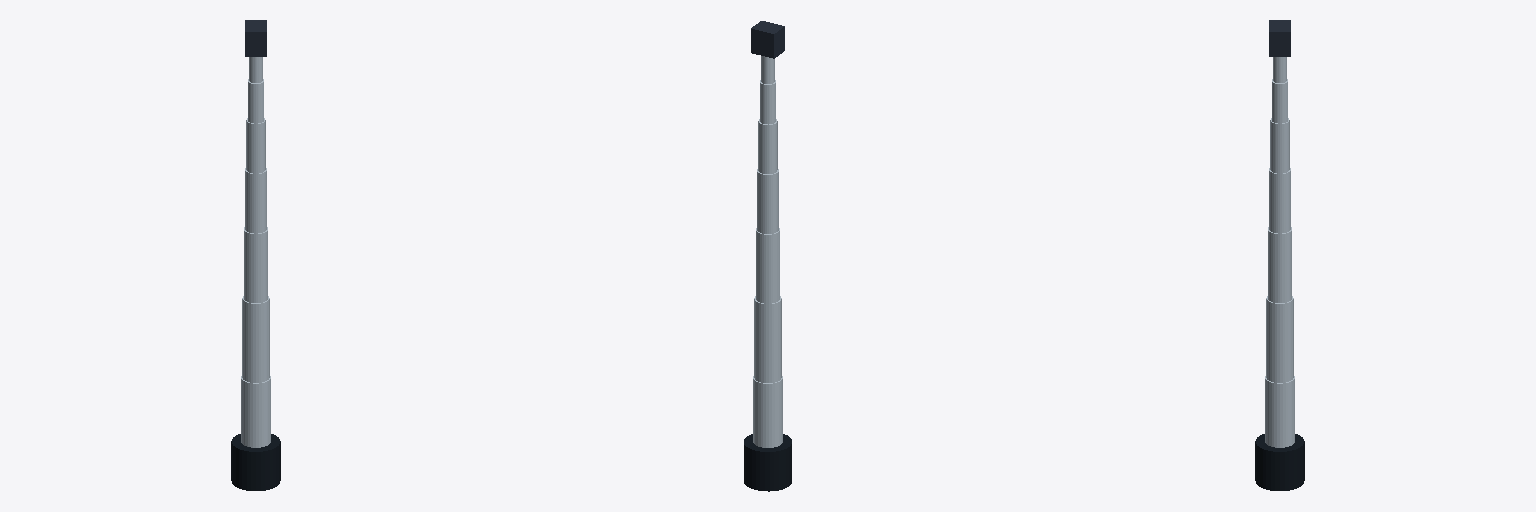
URDF robot description (panda_web):
<?xml version="1.0"?>
<robot name="panda_web">
  <link name="panda_link0"><visual><geometry><cylinder radius="0.09" length="0.16"/></geometry><material name="dark"><color rgba="0.12 0.15 0.18 1"/></material></visual></link>
  <link name="panda_link1"><visual><origin xyz="0 0 0.17"/><geometry><cylinder radius="0.055" length="0.34"/></geometry><material name="white"><color rgba="0.75 0.8 0.84 1"/></material></visual></link>
  <link name="panda_link2"><visual><origin xyz="0 0 0.16"/><geometry><cylinder radius="0.05" length="0.32"/></geometry><material name="white"><color rgba="0.75 0.8 0.84 1"/></material></visual></link>
  <link name="panda_link3"><visual><origin xyz="0 0 0.14"/><geometry><cylinder radius="0.045" length="0.28"/></geometry><material name="white"><color rgba="0.75 0.8 0.84 1"/></material></visual></link>
  <link name="panda_link4"><visual><origin xyz="0 0 0.12"/><geometry><cylinder radius="0.04" length="0.24"/></geometry><material name="white"><color rgba="0.75 0.8 0.84 1"/></material></visual></link>
  <link name="panda_link5"><visual><origin xyz="0 0 0.1"/><geometry><cylinder radius="0.035" length="0.2"/></geometry><material name="white"><color rgba="0.75 0.8 0.84 1"/></material></visual></link>
  <link name="panda_link6"><visual><origin xyz="0 0 0.08"/><geometry><cylinder radius="0.03" length="0.16"/></geometry><material name="white"><color rgba="0.75 0.8 0.84 1"/></material></visual></link>
  <link name="panda_link7"><visual><origin xyz="0 0 0.06"/><geometry><cylinder radius="0.025" length="0.12"/></geometry><material name="white"><color rgba="0.75 0.8 0.84 1"/></material></visual></link>
  <link name="panda_hand"><visual><origin xyz="0 0 0.05"/><geometry><box size="0.1 0.08 0.1"/></geometry><material name="hand"><color rgba="0.2 0.23 0.28 1"/></material></visual></link>
  <joint name="panda_joint1" type="revolute"><parent link="panda_link0"/><child link="panda_link1"/><axis xyz="0 0 1"/><limit lower="-2.9" upper="2.9" effort="1" velocity="1"/></joint>
  <joint name="panda_joint2" type="revolute"><parent link="panda_link1"/><child link="panda_link2"/><origin xyz="0 0 0.34"/><axis xyz="0 1 0"/><limit lower="-2.9" upper="2.9" effort="1" velocity="1"/></joint>
  <joint name="panda_joint3" type="revolute"><parent link="panda_link2"/><child link="panda_link3"/><origin xyz="0 0 0.32"/><axis xyz="0 1 0"/><limit lower="-2.9" upper="2.9" effort="1" velocity="1"/></joint>
  <joint name="panda_joint4" type="revolute"><parent link="panda_link3"/><child link="panda_link4"/><origin xyz="0 0 0.28"/><axis xyz="1 0 0"/><limit lower="-2.9" upper="2.9" effort="1" velocity="1"/></joint>
  <joint name="panda_joint5" type="revolute"><parent link="panda_link4"/><child link="panda_link5"/><origin xyz="0 0 0.24"/><axis xyz="0 1 0"/><limit lower="-2.9" upper="2.9" effort="1" velocity="1"/></joint>
  <joint name="panda_joint6" type="revolute"><parent link="panda_link5"/><child link="panda_link6"/><origin xyz="0 0 0.2"/><axis xyz="1 0 0"/><limit lower="-2.9" upper="2.9" effort="1" velocity="1"/></joint>
  <joint name="panda_joint7" type="revolute"><parent link="panda_link6"/><child link="panda_link7"/><origin xyz="0 0 0.16"/><axis xyz="0 1 0"/><limit lower="-2.9" upper="2.9" effort="1" velocity="1"/></joint>
  <joint name="panda_hand_joint" type="fixed"><parent link="panda_link7"/><child link="panda_hand"/><origin xyz="0 0 0.12"/></joint>
</robot>

--- Facts derived from the render (not from the file) ---
The picture shows the robot from 3 angles, left to right: view 1: azimuth 90°, elevation 25°; view 2: azimuth 150°, elevation 25°; view 3: azimuth 270°, elevation 25°; orthographic projection.
Robot: panda_web — 9 links, 8 joints (7 revolute, 1 fixed); root link panda_link0; default pose: every joint at zero.
Links seen in each view (by area): view 1: panda_link0, panda_link2, panda_link1, panda_link3, panda_link4, panda_link5, panda_hand, panda_link6; view 2: panda_link0, panda_link2, panda_link1, panda_link3, panda_link4, panda_hand, panda_link5, panda_link6; view 3: panda_link0, panda_link2, panda_link1, panda_link3, panda_link4, panda_link5, panda_hand, panda_link6.
Boxes of the visible links, bbox=[...] form: panda_link0: bbox=[231, 434, 280, 490]; panda_link2: bbox=[242, 296, 269, 382]; panda_link1: bbox=[241, 376, 270, 447]; panda_link3: bbox=[244, 227, 267, 302]; panda_link4: bbox=[245, 168, 266, 233]; panda_link5: bbox=[246, 118, 265, 173]; panda_hand: bbox=[245, 20, 266, 56]; panda_link6: bbox=[248, 79, 263, 123]; panda_link0: bbox=[744, 434, 791, 491]; panda_link2: bbox=[754, 296, 781, 382]; panda_link1: bbox=[753, 376, 782, 447]; panda_link3: bbox=[756, 228, 779, 303]; panda_link4: bbox=[757, 169, 778, 233]; panda_hand: bbox=[751, 21, 784, 58]; panda_link5: bbox=[758, 119, 777, 173]; panda_link6: bbox=[760, 80, 775, 124]; panda_link0: bbox=[1255, 434, 1304, 490]; panda_link2: bbox=[1266, 296, 1293, 382]; panda_link1: bbox=[1265, 376, 1294, 447]; panda_link3: bbox=[1268, 227, 1291, 302]; panda_link4: bbox=[1269, 168, 1290, 233]; panda_link5: bbox=[1270, 118, 1289, 173]; panda_hand: bbox=[1269, 20, 1290, 56]; panda_link6: bbox=[1272, 79, 1287, 123].
Size in the robot's own frame: 0.18 by 0.18 by 1.84 metres.
Geometry: primitives only (box / cylinder / sphere), no mesh files.
